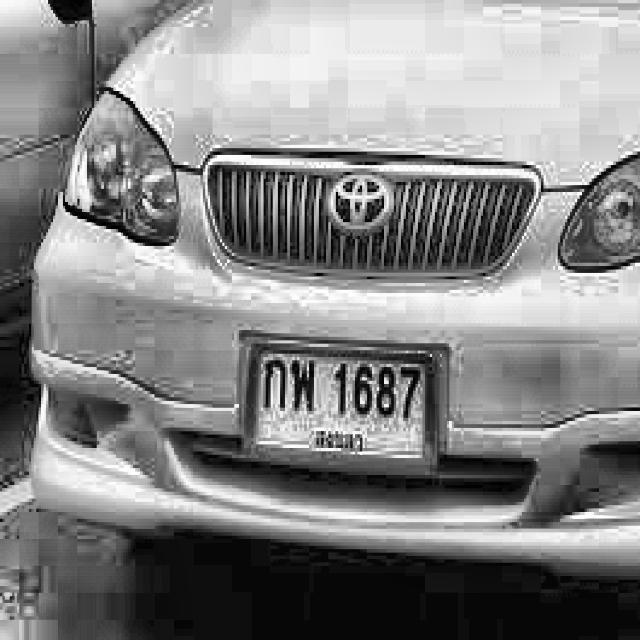license-plate: (229, 330, 458, 490)
